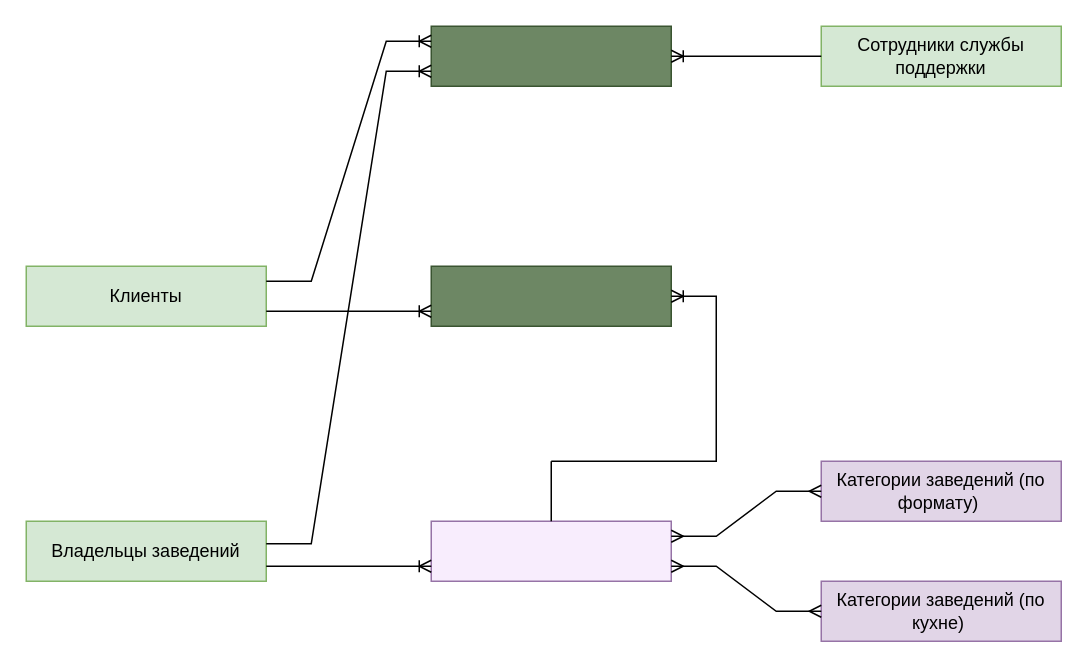
The diagram is 1088 pixels wide and 668 high, and some of its shapes have lost their labels. The shapes that lost their labels are listed below. From the top down, each one's centre as x and y in pixels, then its label:
At pixel 550 55: "Обращения".
At pixel 550 295: "Отзывы".
At pixel 550 550: "Заведения (кафе, рестораны)".
